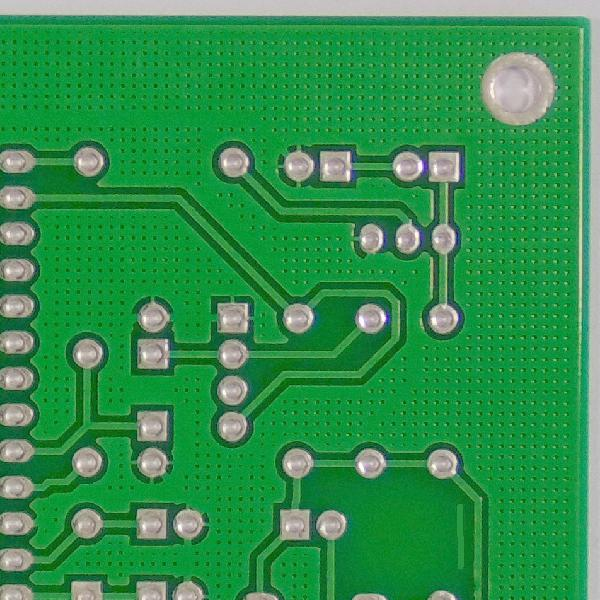spurious_copper: (444, 495, 479, 577)
